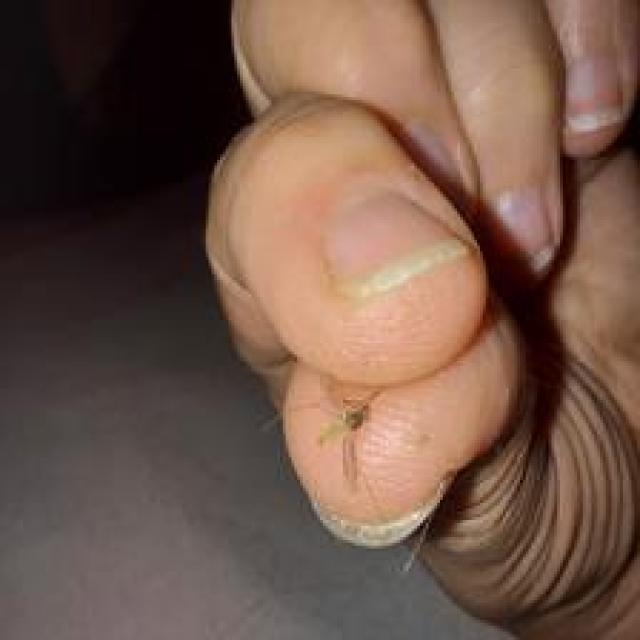Culex: (316, 399, 370, 484)
